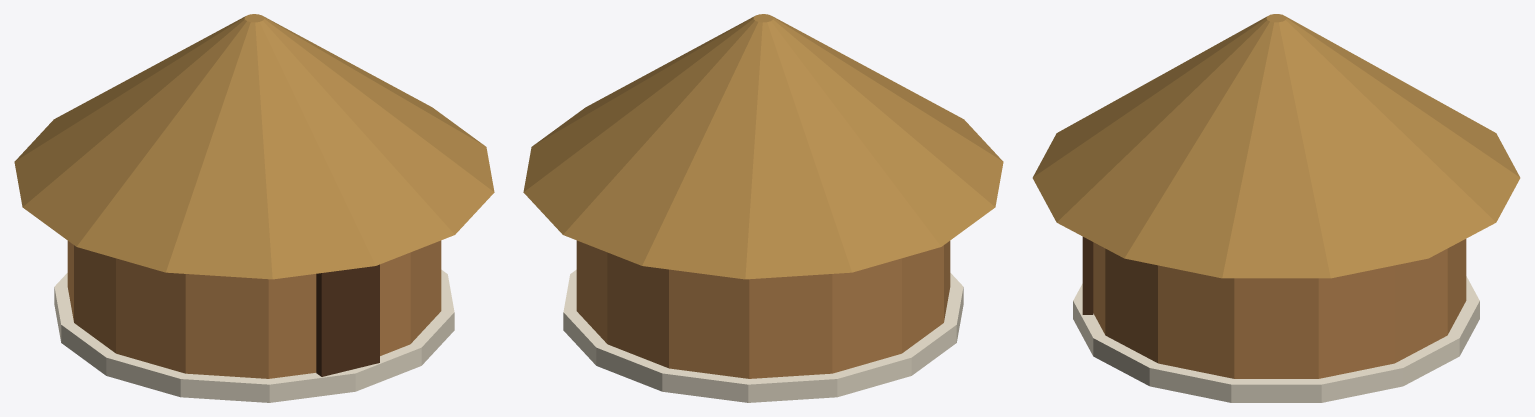
File: bld_cs_hut.glb
3 views of the same model, side by side, from view 1: azimuth 30°, elevation 25°; view 2: azimuth 150°, elevation 25°; view 3: azimuth 270°, elevation 25° (orthographic).
Parts seen in each view (by area): view 1: bld_cs_hut; view 2: bld_cs_hut; view 3: bld_cs_hut.
Boxes of the visible parts, x1=… form: bld_cs_hut: x1=14, y1=14, x2=494, y2=402; bld_cs_hut: x1=523, y1=14, x2=1003, y2=402; bld_cs_hut: x1=1032, y1=14, x2=1520, y2=402.
Size of what is drawn, in the model's own units: 7.02 by 4.9 by 7.2.
